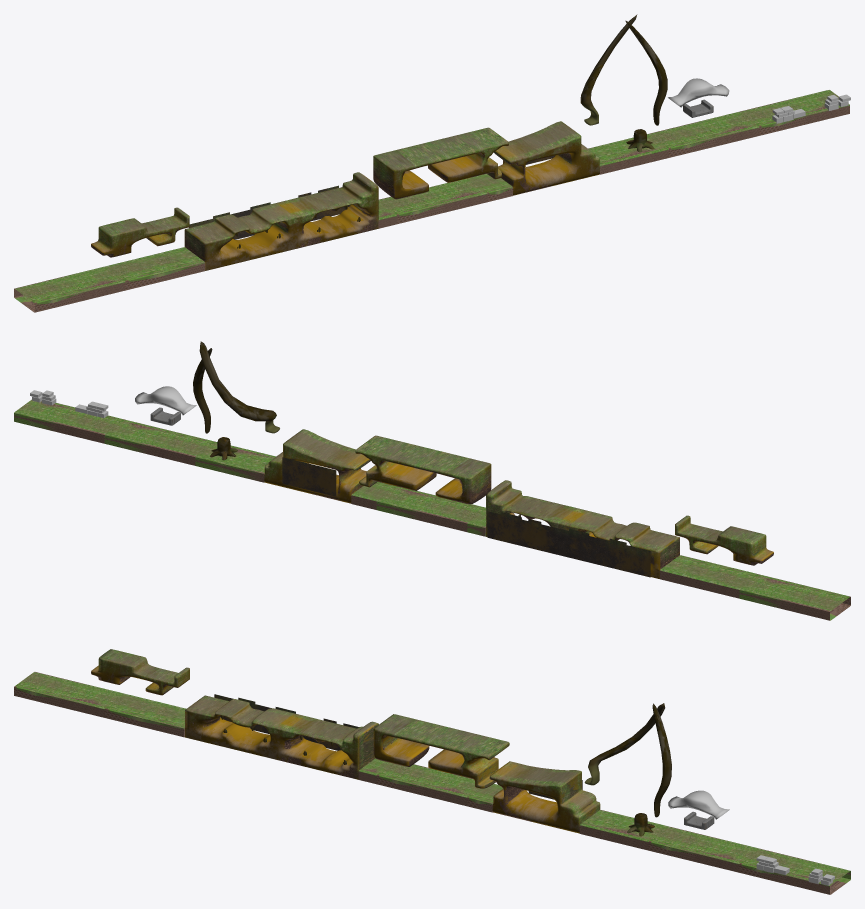
The model's file is Stage_Forest_Ver.2.fbx.
3 views of the same model, one above another, from view 1: azimuth 30°, elevation 25°; view 2: azimuth 150°, elevation 25°; view 3: azimuth 330°, elevation 25° (orthographic).
Visible parts, largest first — view 1: Cave, Cube, Wood3, Wood4, Cube.001, Plane, Wall; view 2: Cave, Cube, Plane, Wood3, Cube.001, Wall, Wood4; view 3: Cave, Cube, Wood4, Wood3, Cube.001, Plane, Wall.
Part boxes in pixels (box(x1,y1,x2,y2)): Cave: box(91, 121, 599, 270); Cube: box(14, 90, 849, 312); Wood3: box(580, 14, 637, 125); Wood4: box(625, 20, 667, 125); Cube.001: box(668, 78, 729, 107); Plane: box(189, 155, 554, 239); Wall: box(772, 94, 850, 123); Cave: box(264, 429, 773, 578); Cube: box(14, 399, 850, 620); Plane: box(282, 457, 650, 577); Wood3: box(199, 341, 279, 433); Cube.001: box(135, 386, 196, 415); Wall: box(30, 390, 108, 417); Wood4: box(193, 348, 212, 433); Cave: box(91, 649, 600, 833); Cube: box(14, 672, 850, 894); Wood4: box(652, 703, 671, 817); Wood3: box(584, 703, 665, 785); Cube.001: box(668, 790, 729, 819); Plane: box(214, 694, 582, 799); Wall: box(756, 855, 834, 885).
Size of the model in its own units: 22525 by 3398 by 1489.
